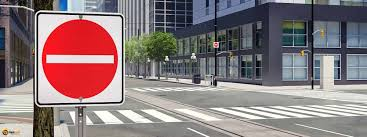sign_noentry: (35, 11, 125, 107), (213, 41, 219, 48)
